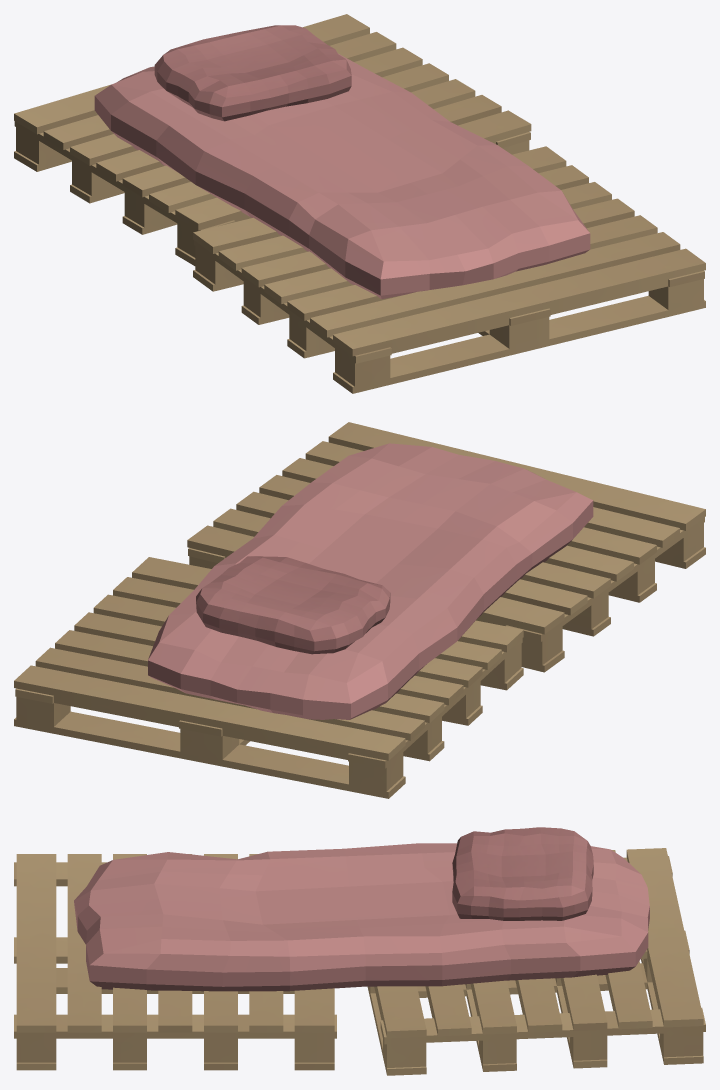
The model's file is bed.glb.
3 views of the same model, one above another, from view 1: azimuth 30°, elevation 25°; view 2: azimuth 150°, elevation 25°; view 3: azimuth 270°, elevation 25° (orthographic).
Visible parts, largest first — view 1: mattress, pallet_1, pallet_2, pillow; view 2: mattress, pallet_2, pallet_1, pillow; view 3: mattress, pallet_2, pallet_1, pillow.
Boxes of the visible parts, bbox=[...] form: mattress: bbox=[94, 53, 590, 299]; pallet_1: bbox=[193, 146, 705, 393]; pallet_2: bbox=[14, 14, 531, 265]; pillow: bbox=[154, 25, 351, 121]; mattress: bbox=[148, 443, 593, 719]; pallet_2: bbox=[14, 557, 523, 798]; pallet_1: bbox=[187, 422, 705, 672]; pillow: bbox=[196, 556, 390, 654]; mattress: bbox=[74, 843, 649, 991]; pallet_2: bbox=[367, 848, 705, 1075]; pallet_1: bbox=[14, 854, 336, 1070]; pillow: bbox=[452, 827, 593, 920].
Size of the model in its own units: 2.19 by 0.633 by 3.5.
Materials: 1 (1 with a texture image).
